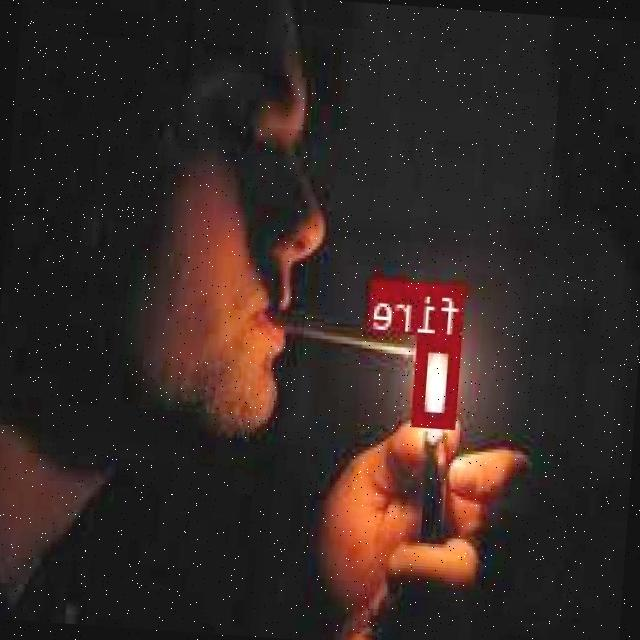fire: (413, 334, 463, 426)
